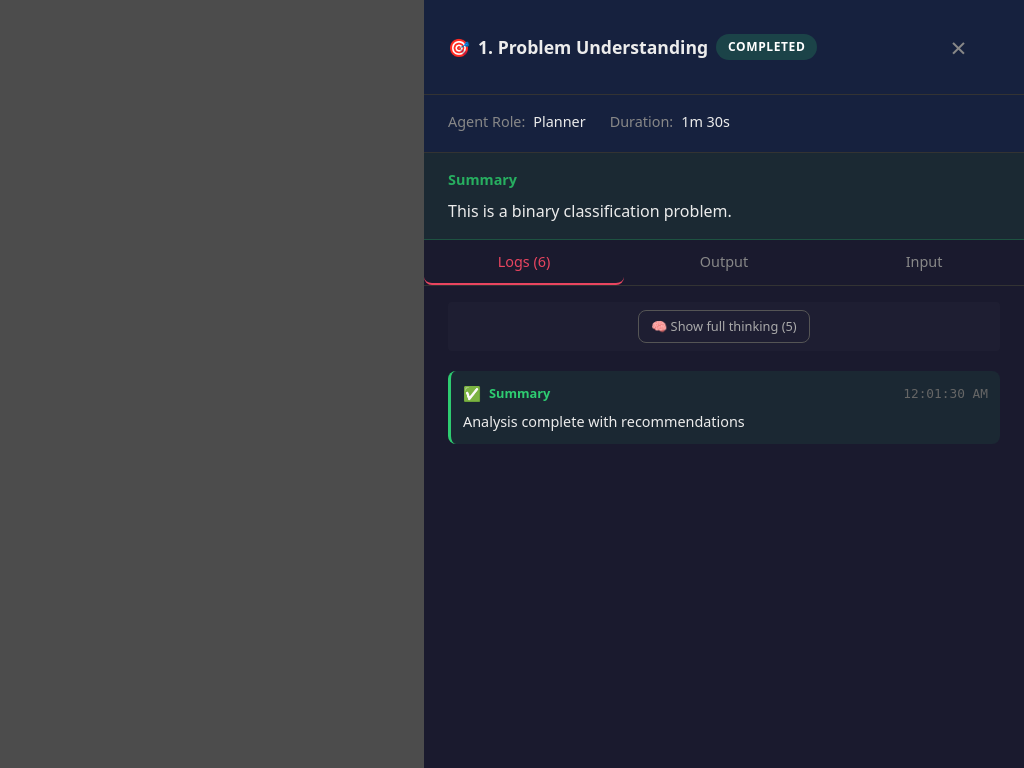
Test: AgentStepDrawer - Rich Log Types › reveals all logs when Show full thinking is clicked
The width and height of the screenshot is (1024, 768).
Click the toggle button
Click the button "🧠 Show full thinking (5)" at (724, 326), box [638, 310, 810, 343]
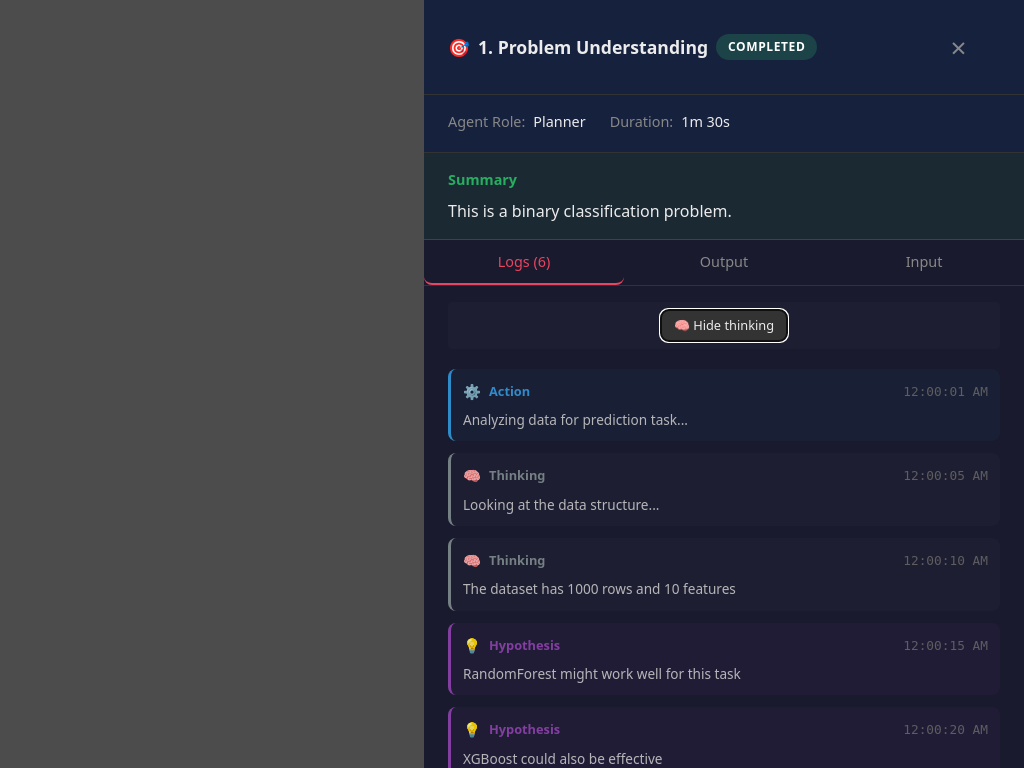
Check: the text "Looking at the data structure..." is shown, box [463, 495, 660, 514]
Check: the text "RandomForest might work well for this task" is shown, box [463, 664, 741, 683]
Check: the text "XGBoost could also be effective" is shown, box [463, 749, 662, 767]
